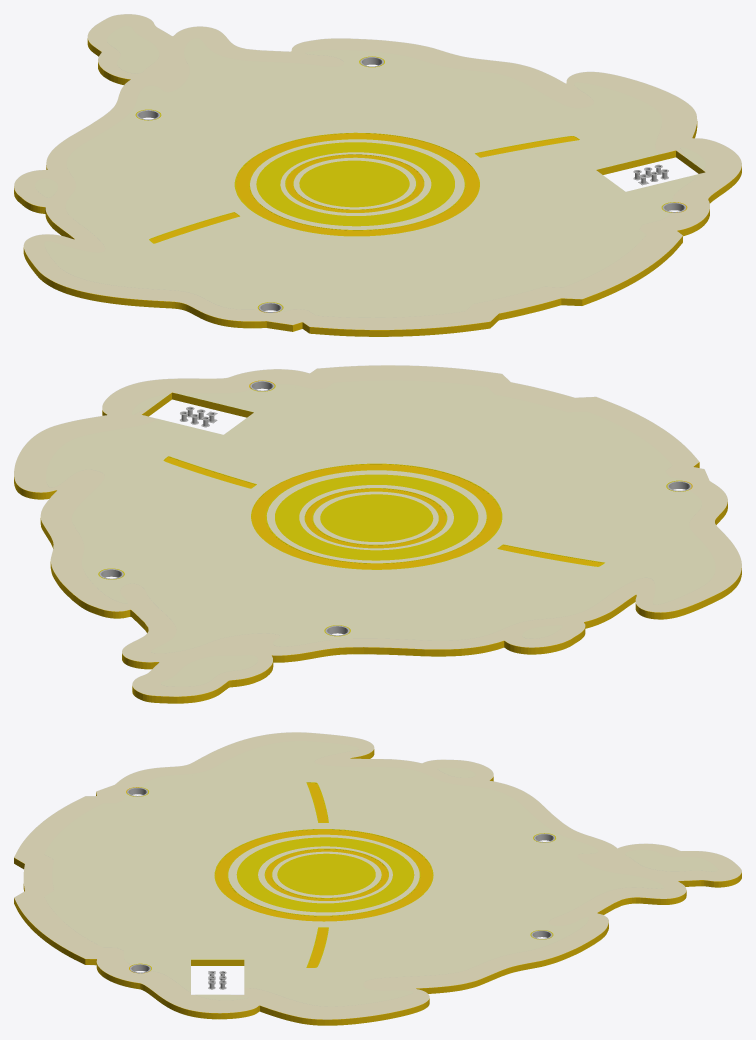
Rendered from cactuscon-14-badge-2026.glb.
The picture shows the model from 3 angles, top to bottom: view 1: azimuth 30°, elevation 25°; view 2: azimuth 150°, elevation 25°; view 3: azimuth 270°, elevation 25°; orthographic projection. The views are drawn at different scales.
Parts seen in each view (by area): view 1: =>[0:1:1:5], =>[0:1:1:2], =>[0:1:1:7]; view 2: =>[0:1:1:5], =>[0:1:1:2], =>[0:1:1:7]; view 3: =>[0:1:1:5], =>[0:1:1:2], =>[0:1:1:7].
Part boxes in pixels (<box>): =>[0:1:1:5]: <box>14,14,741,336</box>; =>[0:1:1:2]: <box>17,26,735,336</box>; =>[0:1:1:7]: <box>14,15,741,336</box>; =>[0:1:1:5]: <box>14,365,741,703</box>; =>[0:1:1:2]: <box>18,381,736,703</box>; =>[0:1:1:7]: <box>14,366,741,703</box>; =>[0:1:1:5]: <box>14,732,741,1025</box>; =>[0:1:1:2]: <box>17,741,735,1025</box>; =>[0:1:1:7]: <box>14,733,741,1025</box>.
Size of the model in its own units: 0.1585 by 0.00162 by 0.1697.
4 materials, 4 textured.
